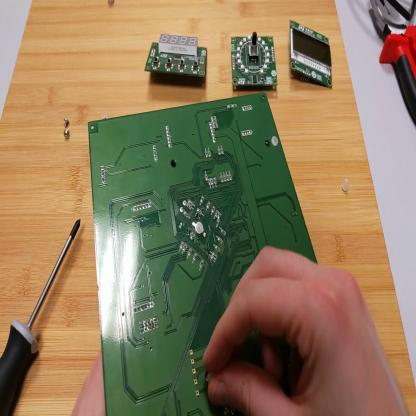hand: (204, 245, 409, 416), (72, 341, 105, 414)
low voltage board: (89, 91, 319, 416)
pliers: (373, 4, 416, 124)
screwdriver-: (2, 219, 82, 415)
working area: (2, 2, 416, 414)
